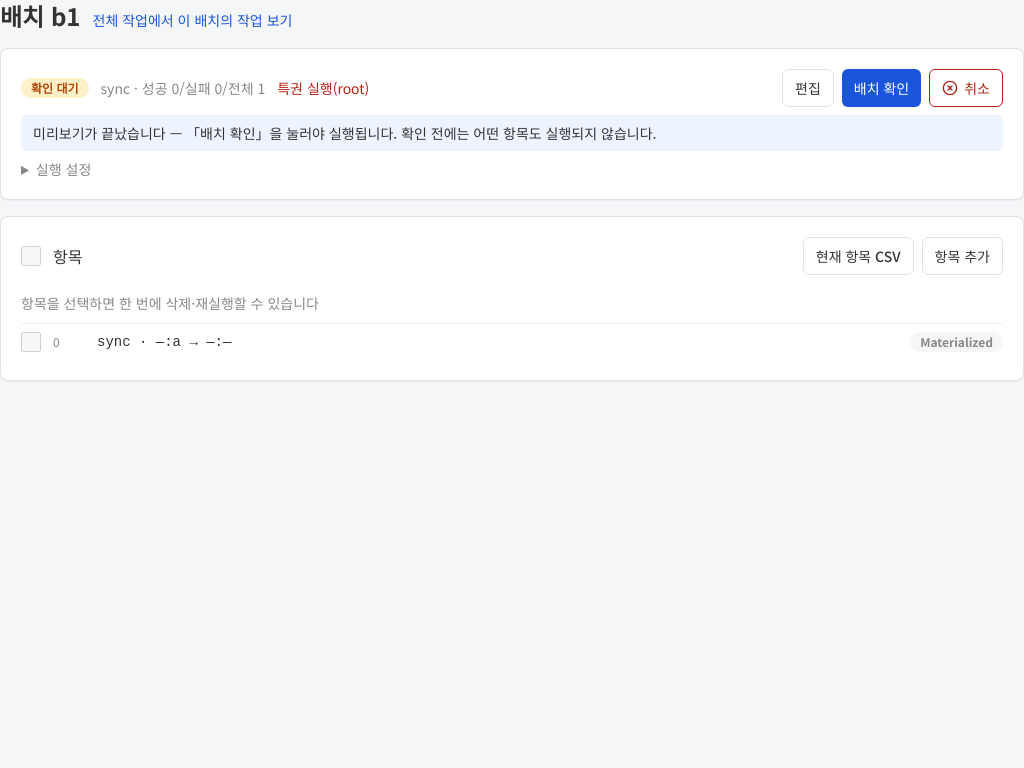
Test case: 배치 확인 409 뒤 배치가 미리보기로 돌아가 대화상자가 사라져도 거부 사유는 헤더에 남는다
The width and height of the screenshot is (1024, 768).
Click the button "배치 확인".
click(882, 88)  # box [842, 69, 921, 107]
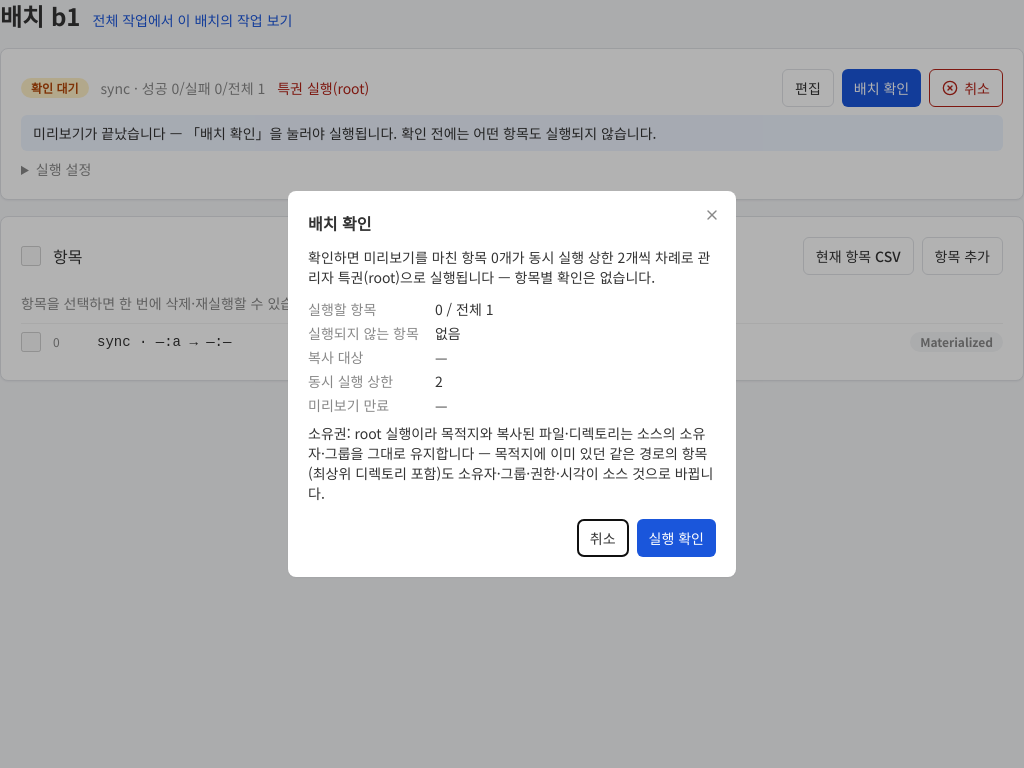
Click the button "실행 확인".
click(676, 538)  # box [636, 519, 716, 557]
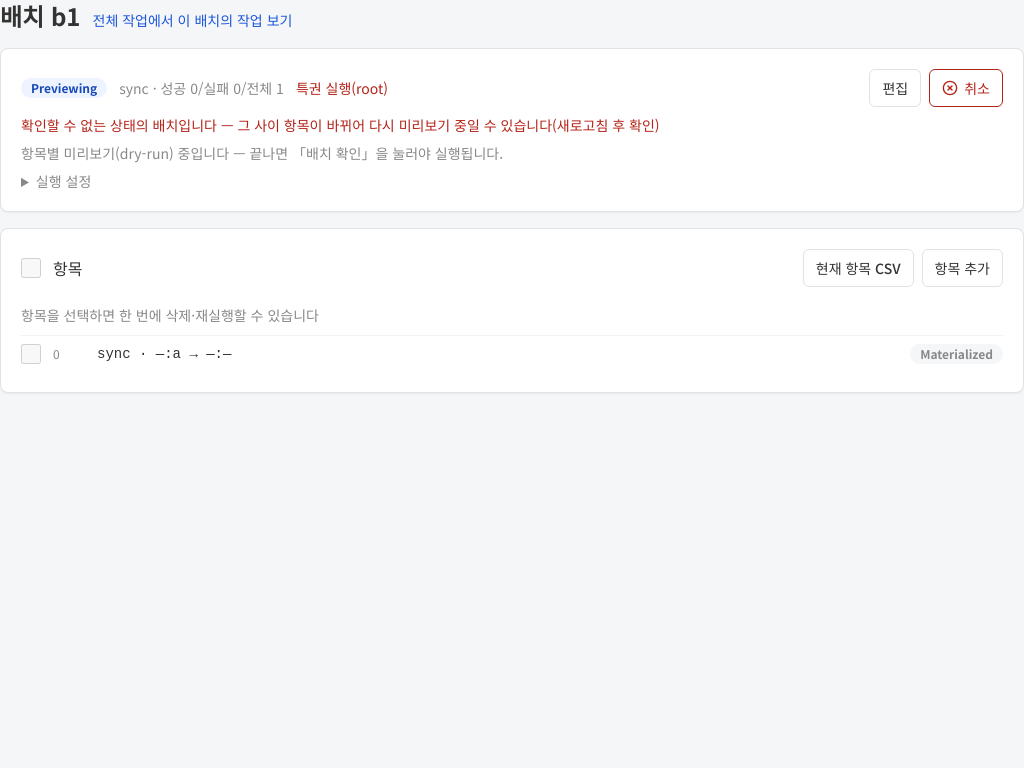
Check: the message shows "다시 미리보기 중일 수 있습니다", box [21, 115, 660, 135]
